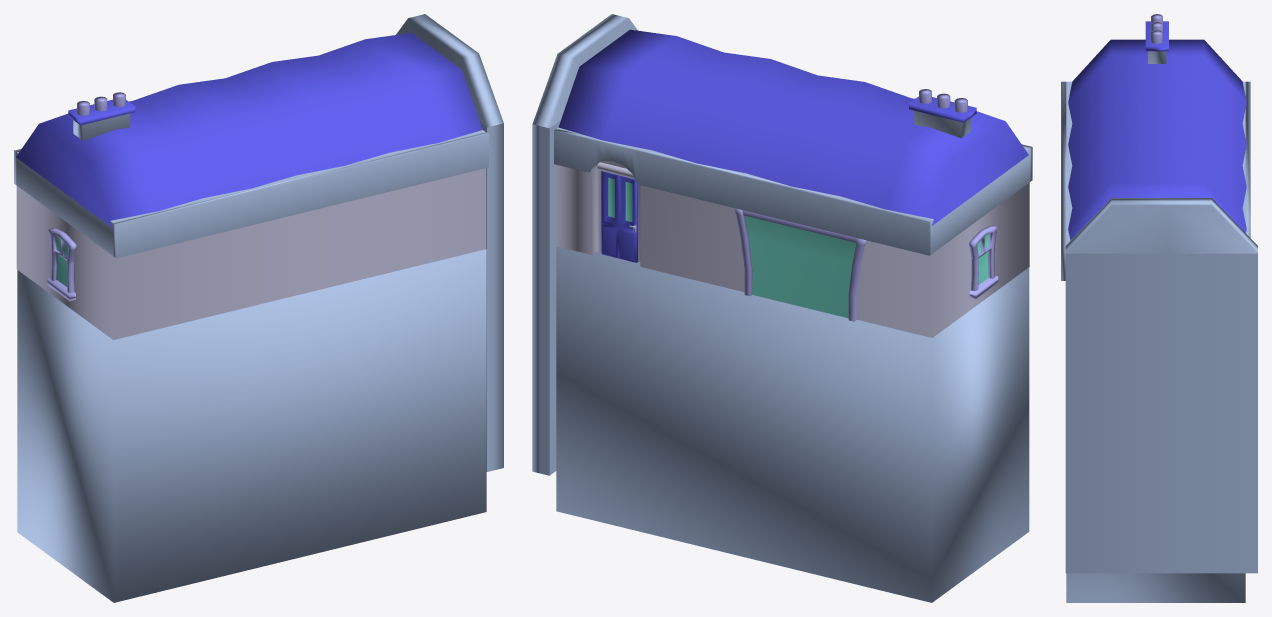
Rendered from Building_A_Test_1.fbx.
3 views of the same model, side by side, from view 1: azimuth 30°, elevation 25°; view 2: azimuth 150°, elevation 25°; view 3: azimuth 270°, elevation 25° (orthographic). The views are drawn at different scales.
Visible parts, largest first — view 1: Building_A_Test_1; view 2: Building_A_Test_1; view 3: Building_A_Test_1.
Part boxes in pixels (x1,y1,x2,y2): Building_A_Test_1: (14, 14, 503, 602); Building_A_Test_1: (532, 14, 1032, 602); Building_A_Test_1: (1061, 14, 1257, 602).
Bounding box in the file's own units: 990 × 1096 × 459.
